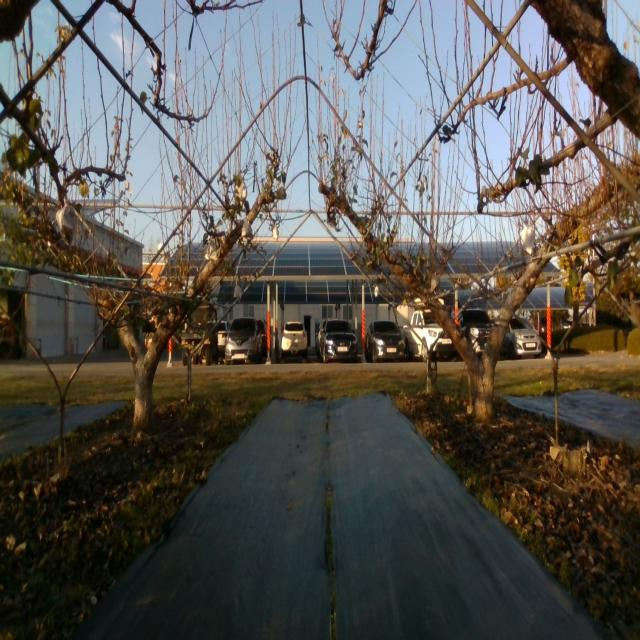pearbags: (56, 201, 76, 245), (521, 225, 535, 254), (207, 239, 219, 262), (240, 218, 253, 237), (237, 180, 247, 201)
